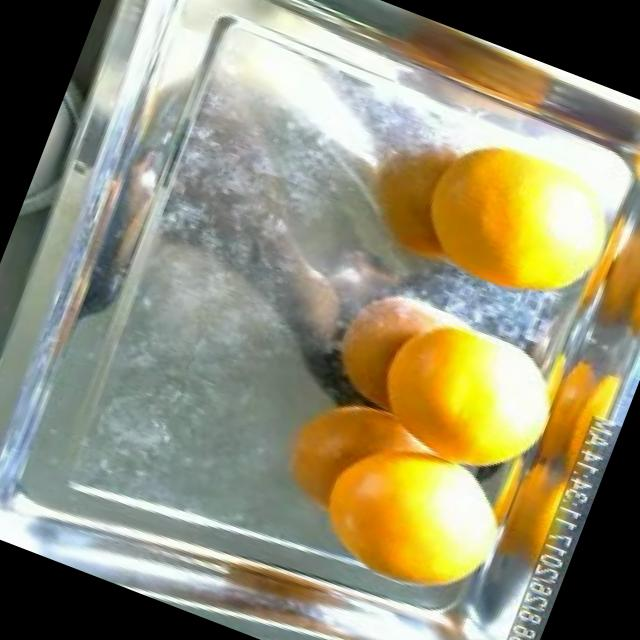Fruit: (334, 274, 591, 512), (288, 400, 540, 622), (389, 11, 581, 124)
